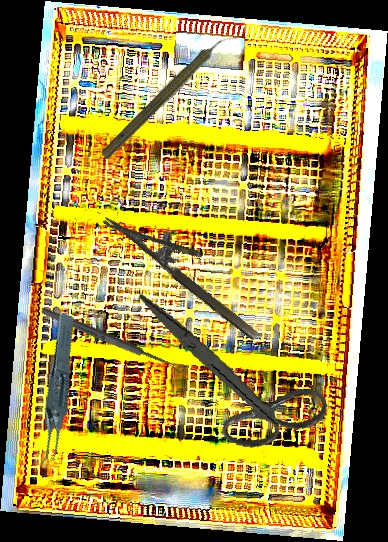Handpiece: (97, 23, 240, 166)
Iris Scissors: (120, 292, 340, 459)
Needle Holder: (102, 192, 276, 343)
Surgical Spoon: (39, 305, 187, 376)
Tissue Forceps: (6, 312, 104, 469)
